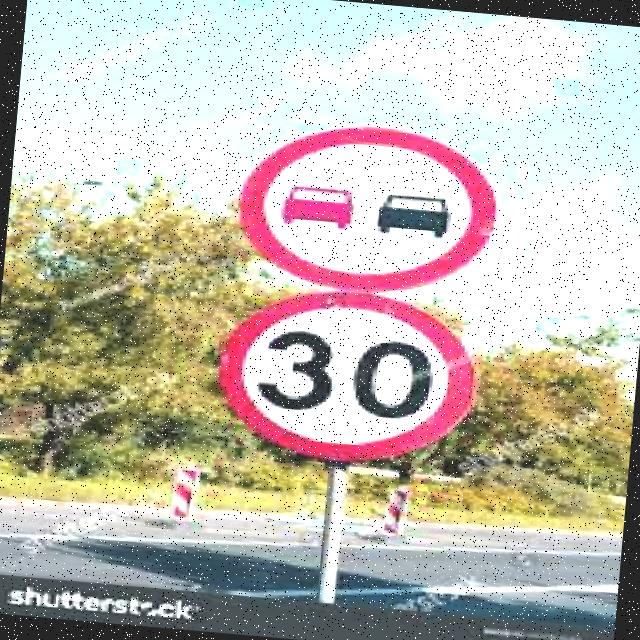Ograniczenie predkosci do 30: (220, 280, 482, 474)
